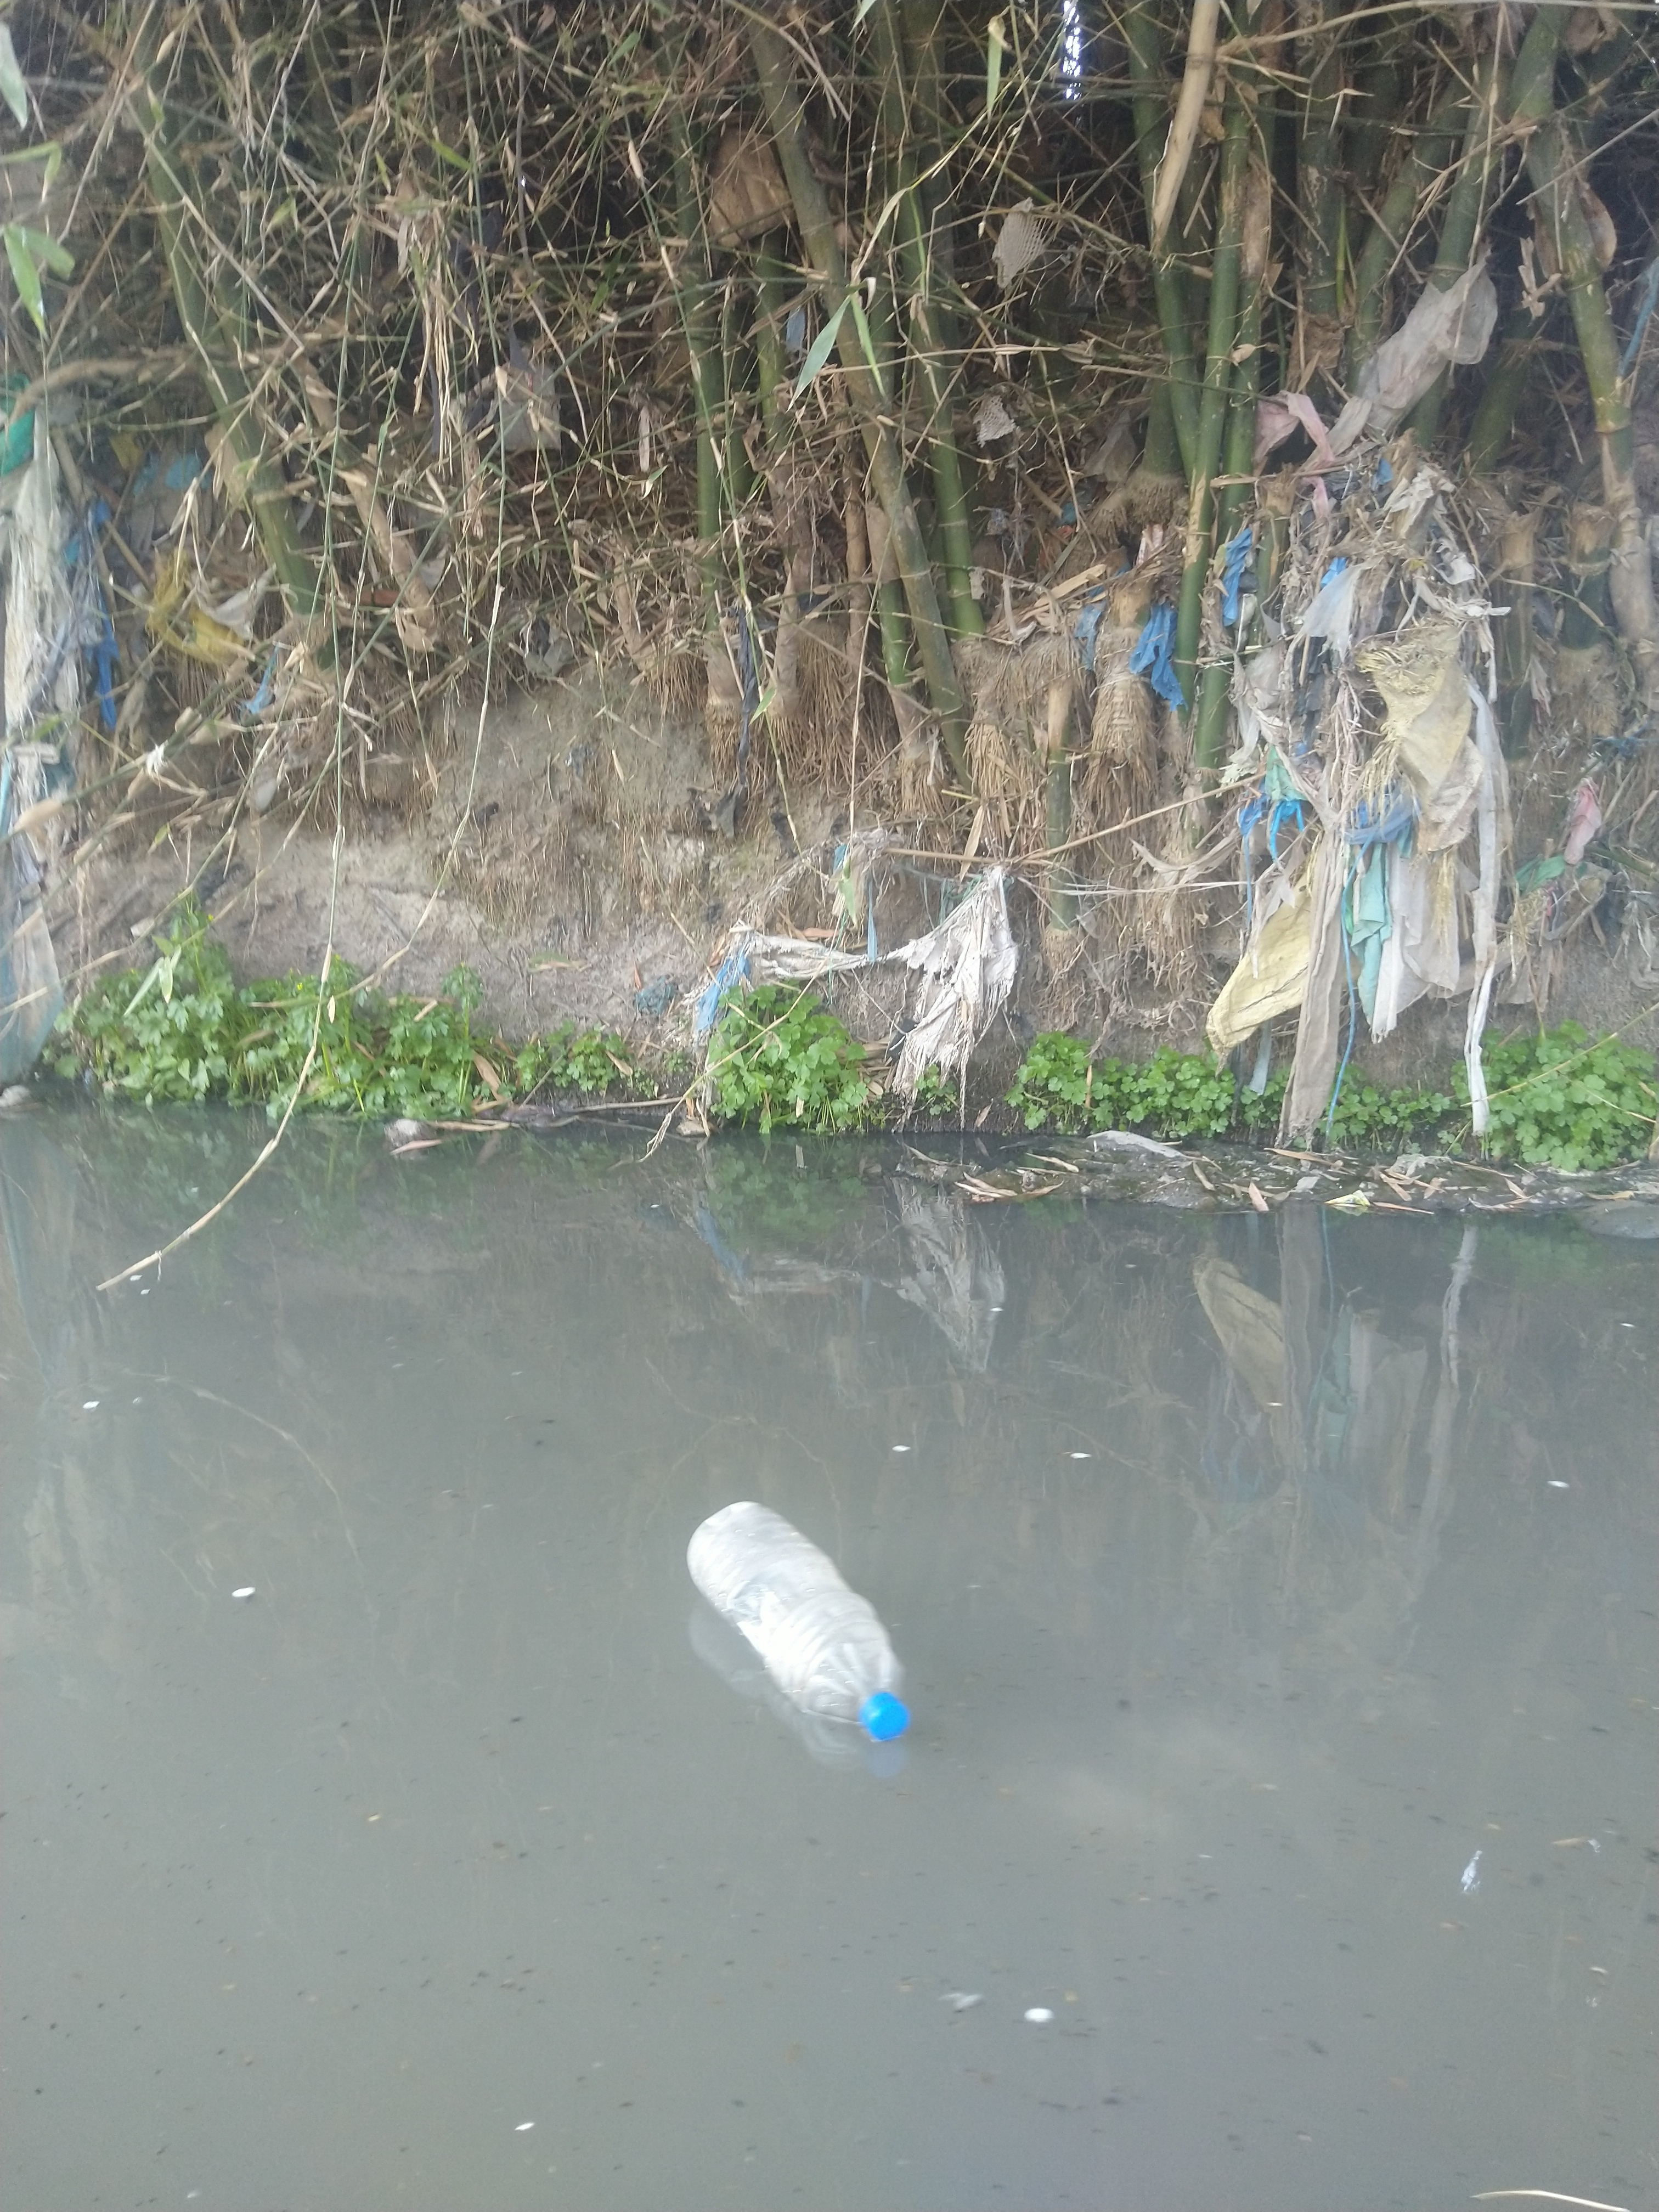Plastic Bottle: (687, 1500, 910, 1742)
